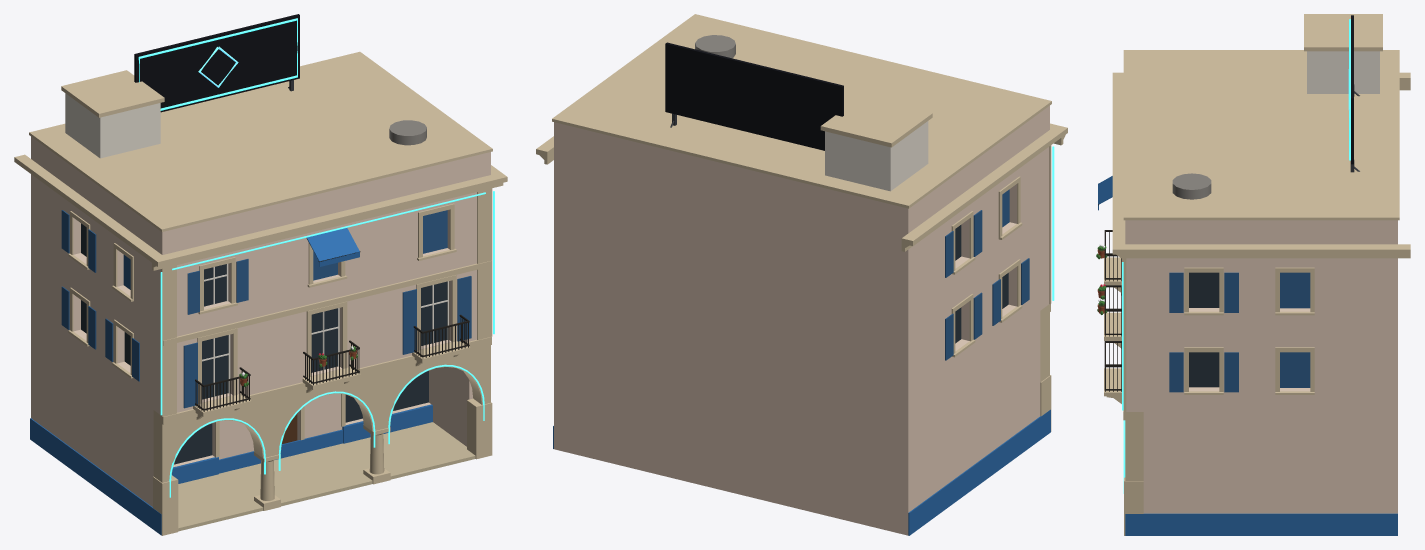
The picture shows the model from 3 angles, left to right: view 1: azimuth 30°, elevation 25°; view 2: azimuth 150°, elevation 25°; view 3: azimuth 270°, elevation 25°; orthographic projection. The views are drawn at different scales.
Visible parts, largest first — view 1: house_se.lod0; view 2: house_se.lod0; view 3: house_se.lod0.
Part boxes in pixels (<box>): house_se.lod0: <box>14,14,507,535</box>; house_se.lod0: <box>536,14,1067,535</box>; house_se.lod0: <box>1096,14,1410,535</box>.
Bounding box in the file's own units: 13.84 × 14.4 × 10.38.
